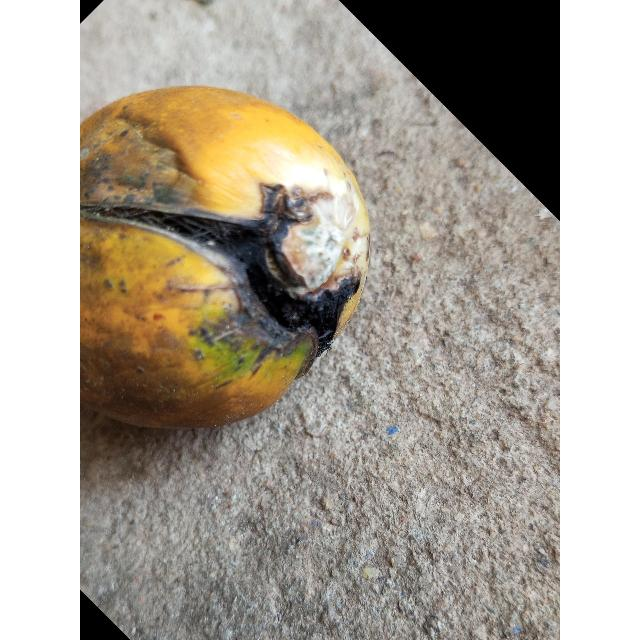damaged: (80, 85, 372, 432)
